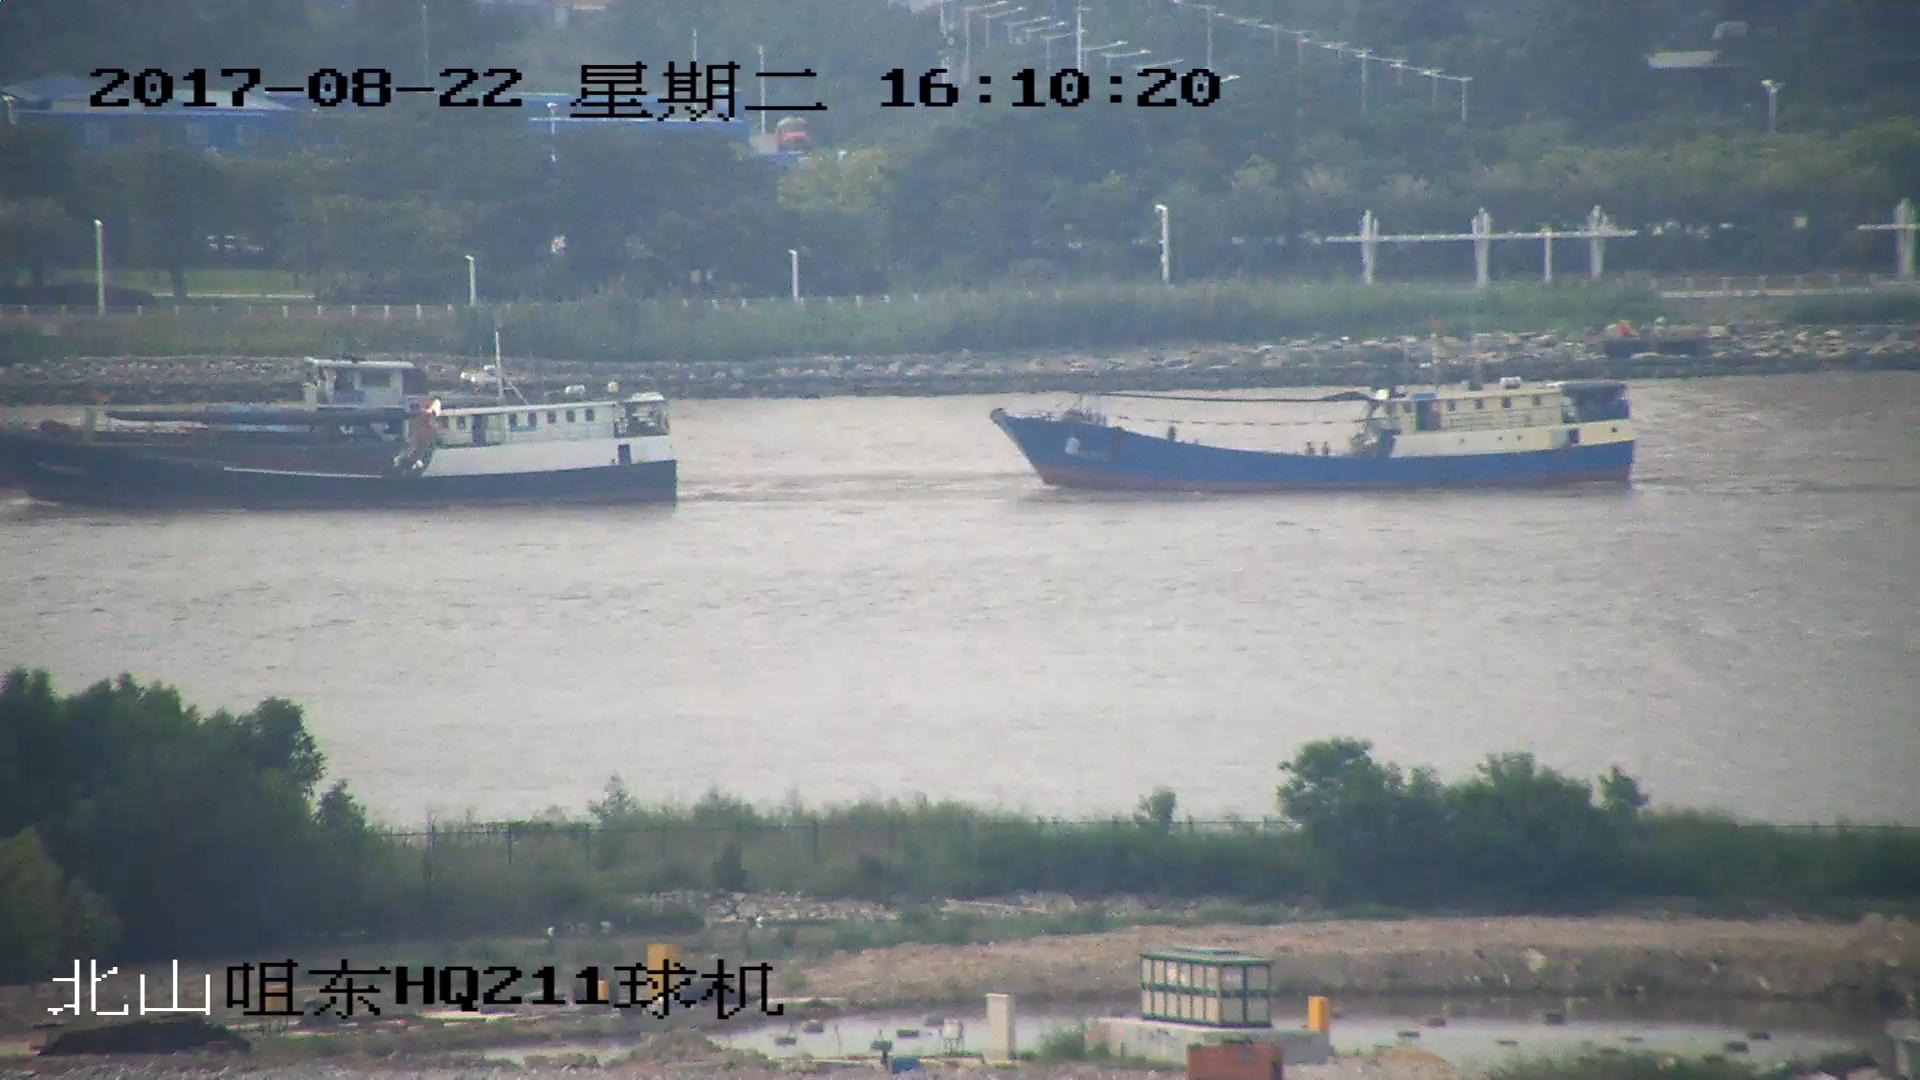fishing boat: (1, 351, 687, 512), (993, 331, 1646, 495)
